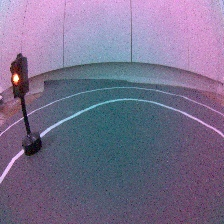amber: (8, 52, 46, 159)
